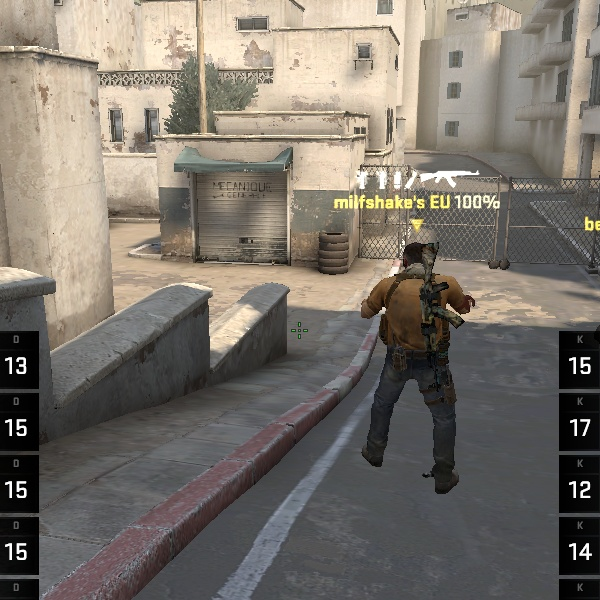t_body: (351, 236, 487, 490)
t_head: (393, 233, 446, 286)
